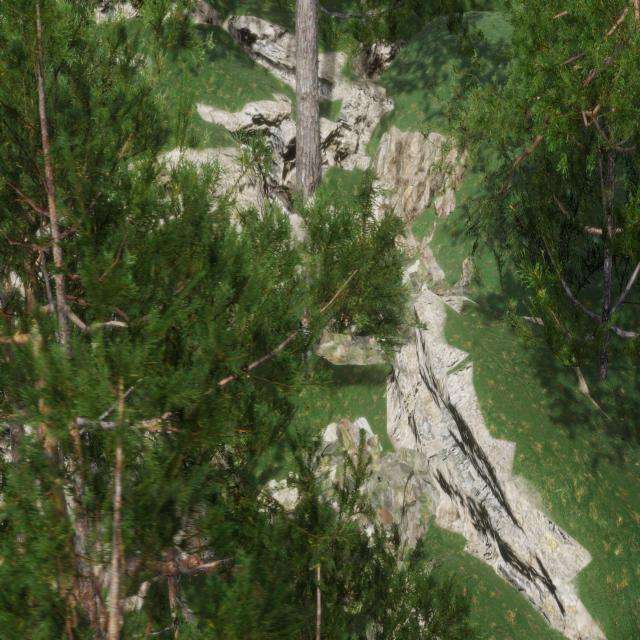Human: (296, 304, 315, 385)
